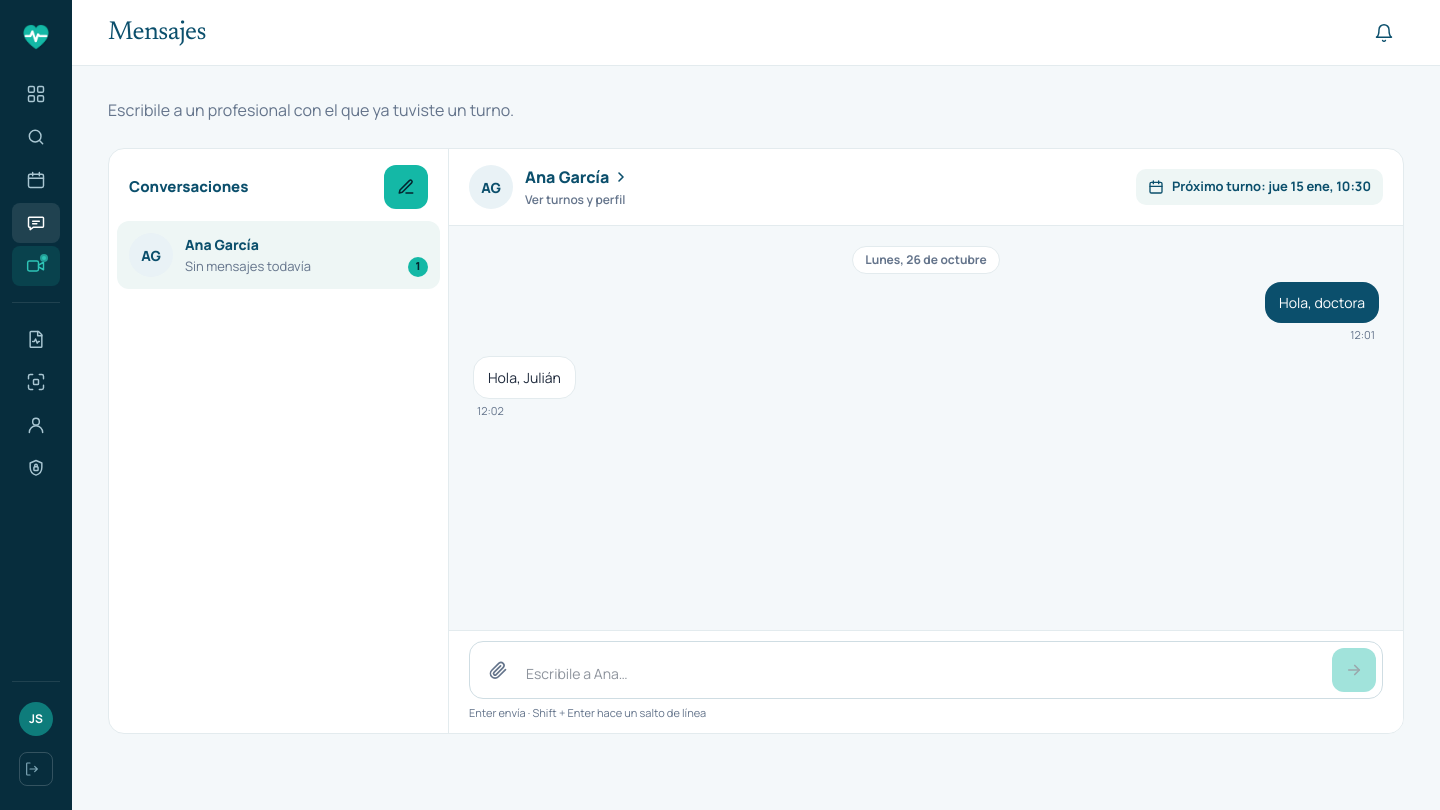
Test: MessagesPage (ENG-70) › Borrar chat pide confirmación, explica que la otra persona lo sigue viendo y vuelve a la bandeja
Expected: the text "Hola, Julián" is shown, [488,366,561,388]
Click the button with aria-label "Ver información de Ana García".
click(552, 187)  # box [463,159,641,215]
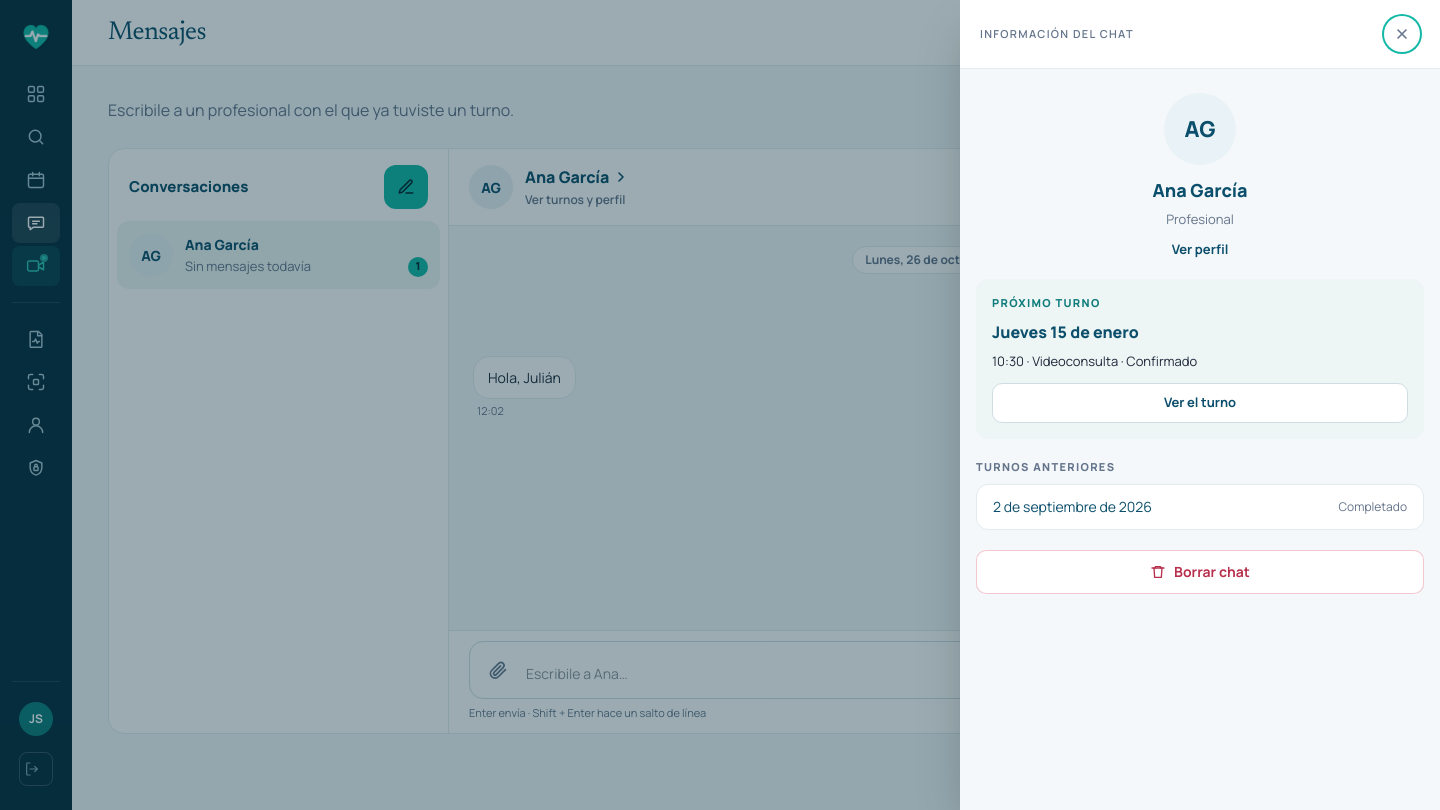
Click the button "Borrar chat".
click(1200, 572)  # box [976,550,1424,594]
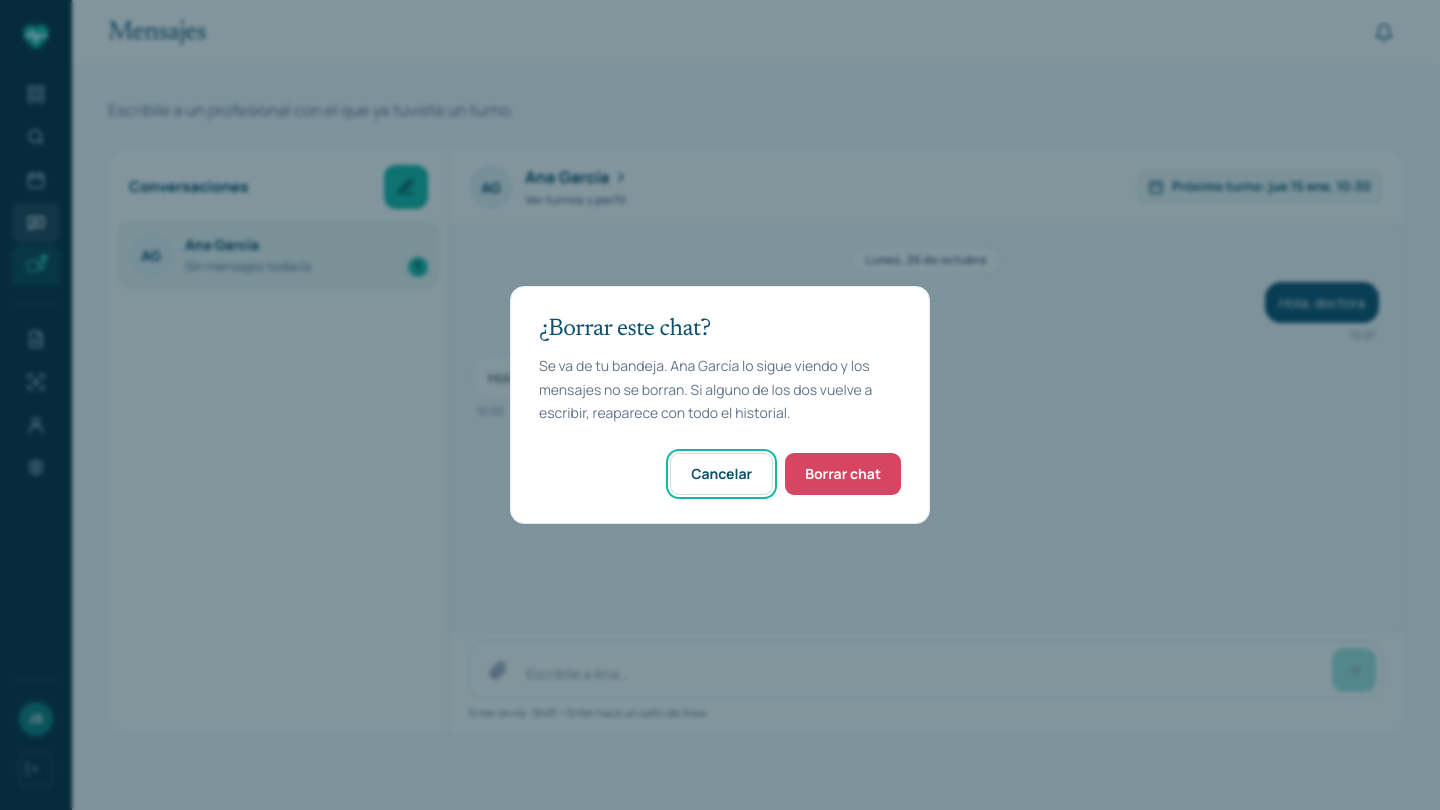
Expected: the dialog "¿Borrar este chat?" shows "Ana García lo sigue viendo", [510,286,930,524]
Click the button "Borrar chat".
click(843, 474)  # box [785,453,901,495]
(page scrolled)
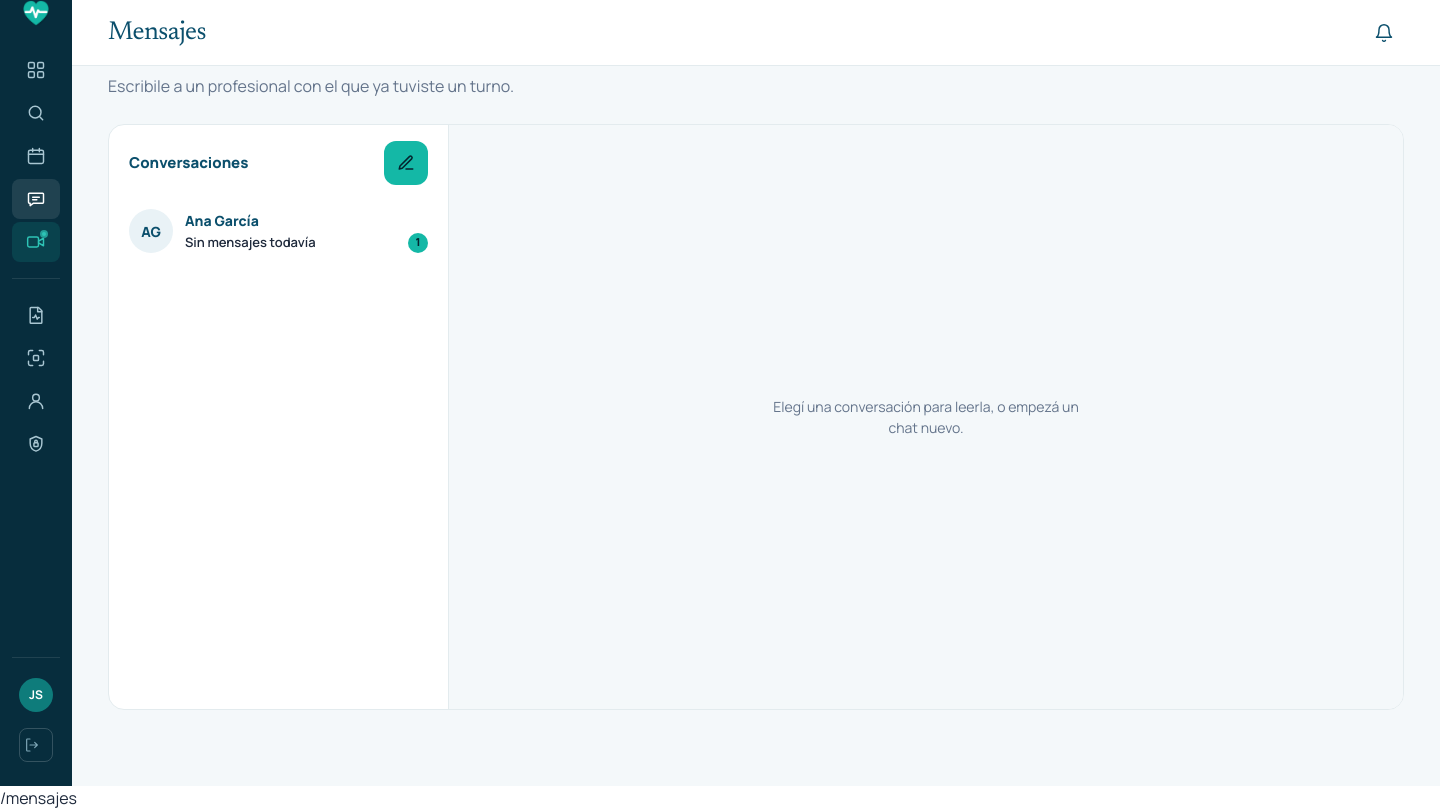
Expected: the text named "ruta" reads "/mensajes", [0,787,77,809]
